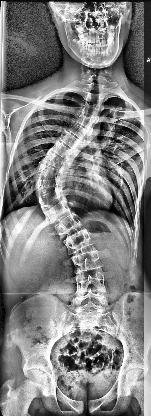Vertebrae: (62, 228, 96, 256), (70, 249, 106, 275), (52, 212, 84, 240), (73, 272, 108, 296), (36, 188, 66, 214), (43, 199, 73, 225), (48, 140, 80, 160), (34, 177, 62, 196), (58, 130, 84, 150), (42, 149, 66, 169), (35, 161, 61, 179), (74, 112, 99, 130), (68, 122, 92, 140), (80, 102, 104, 119), (84, 91, 108, 105)
